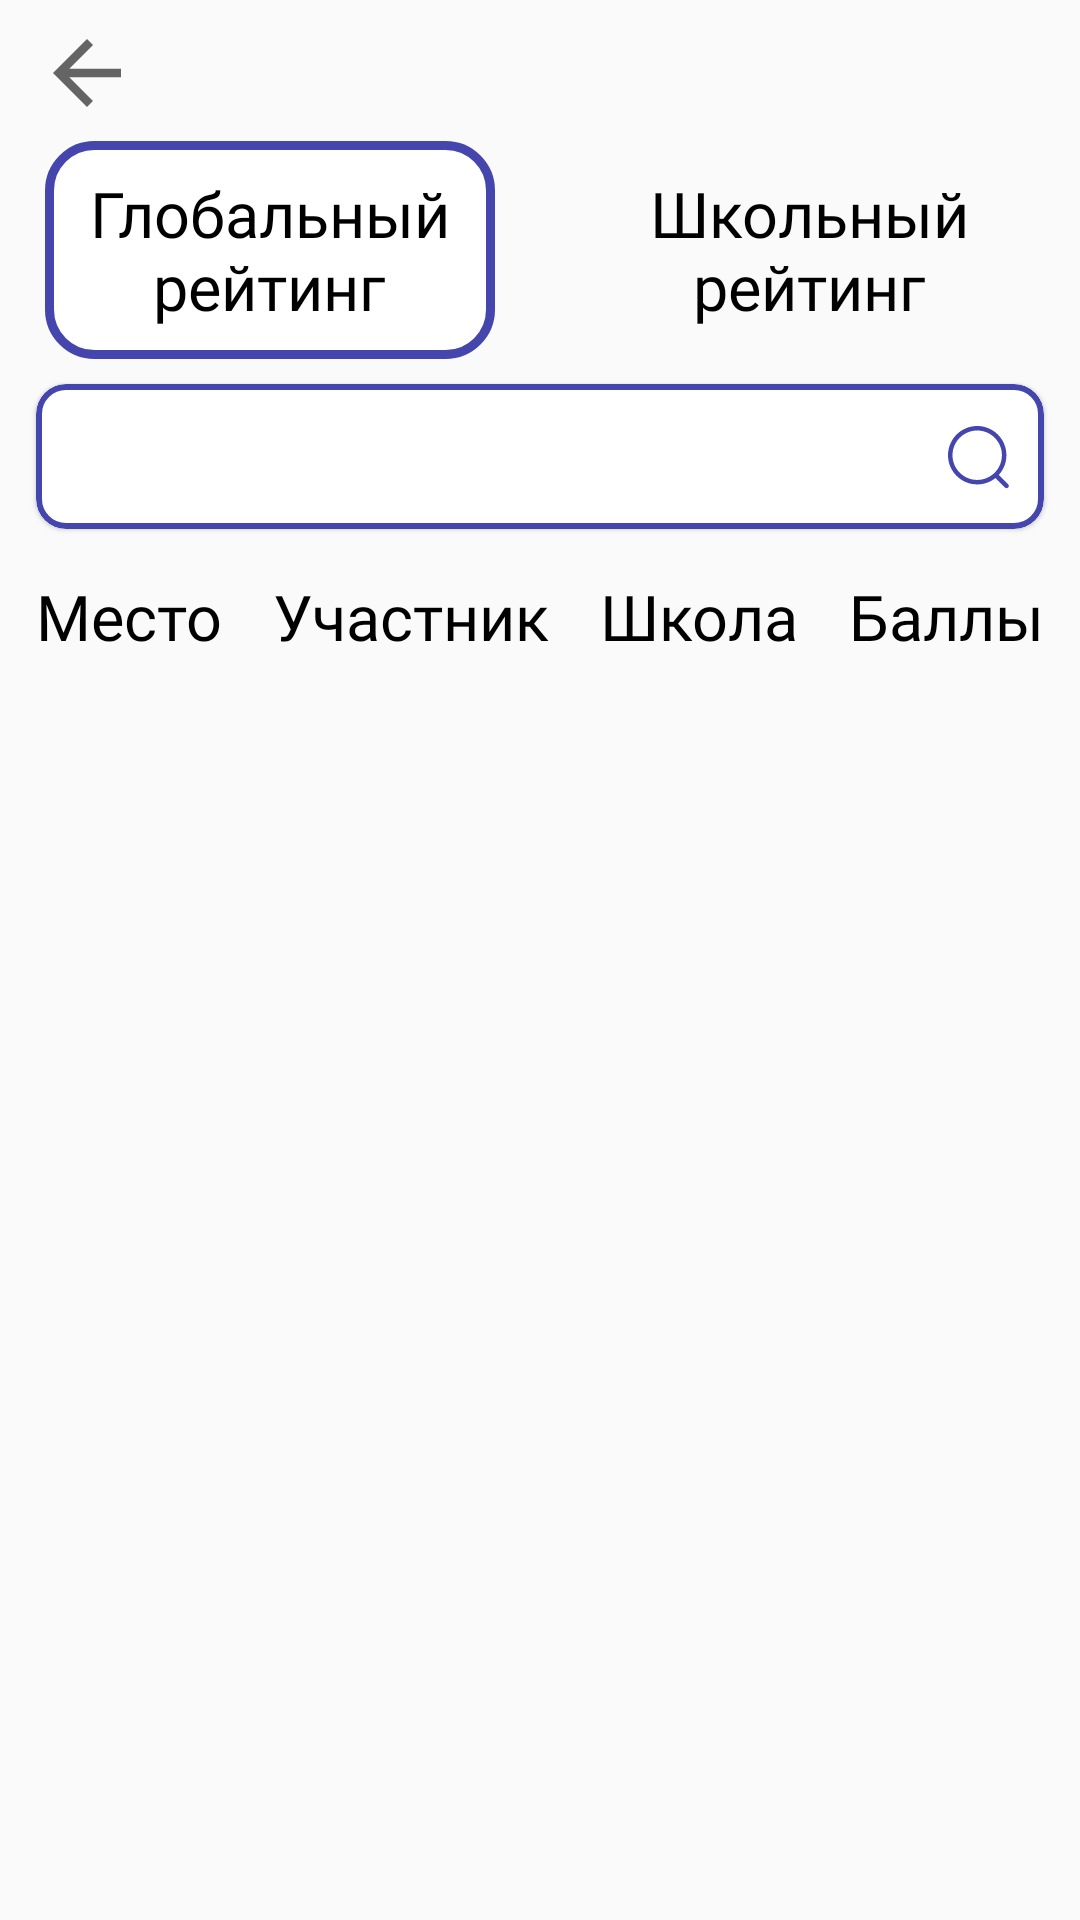

Where to tap for icons on this 1080 × 1920 app screen, as point (x, y):
arrow back: point (87, 73)
